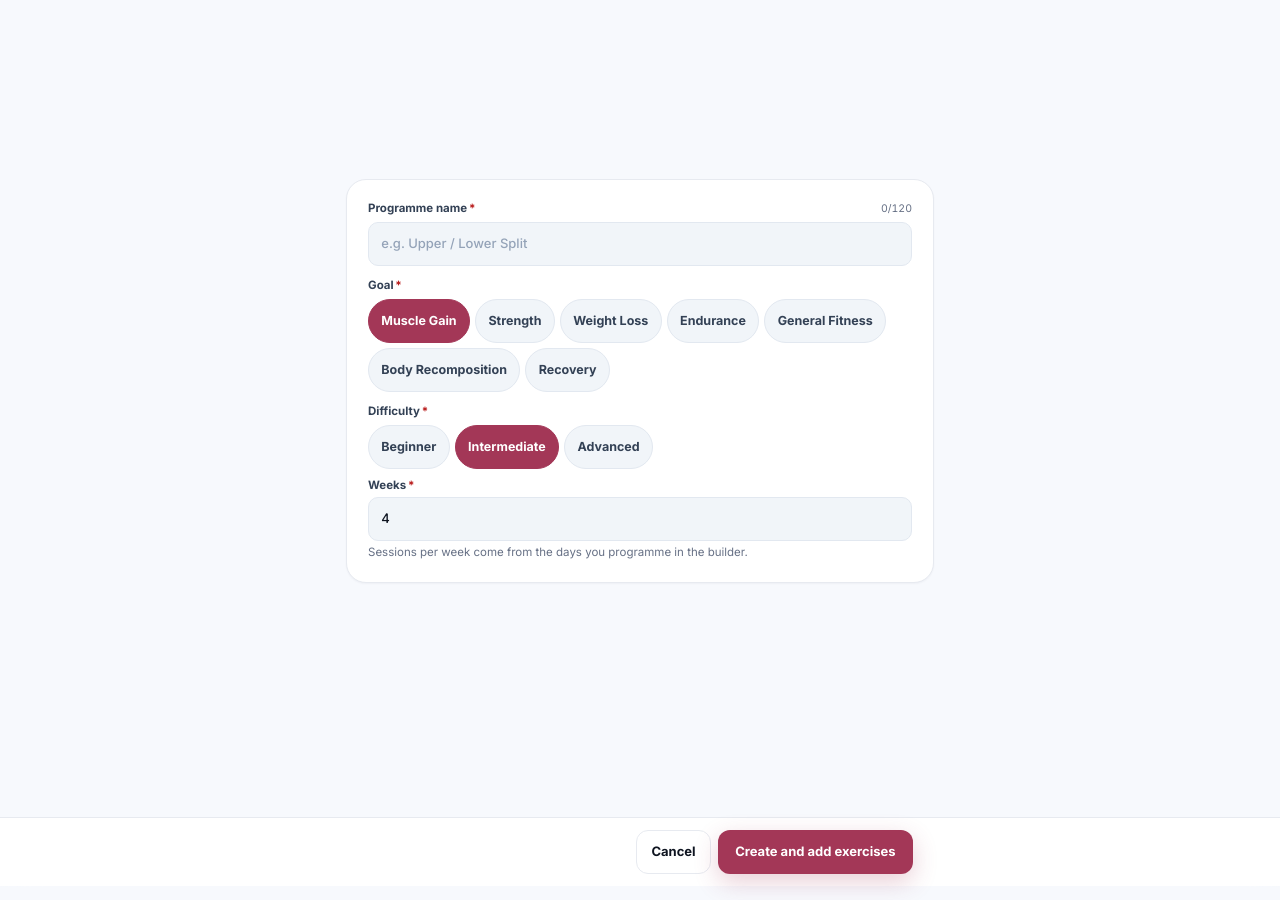
Test: NewProgrammeForm — the replacement for the deleted wizard › refuses to create without a name
Click the button "Create and add exercises". click: coordinates (815, 852)
box: [718, 830, 913, 874]
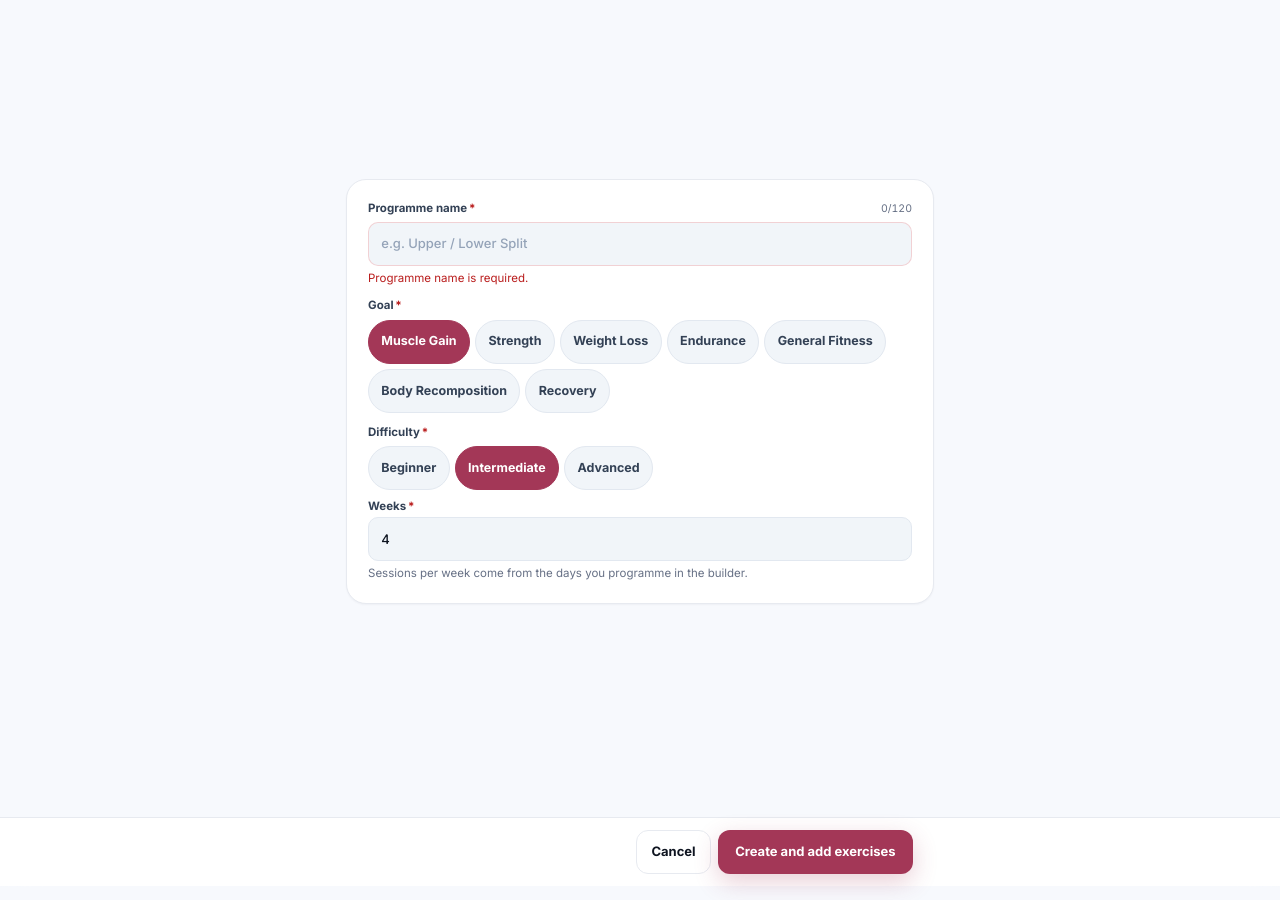
Expected: the text "Programme name is required." is shown, [368, 271, 528, 285]
